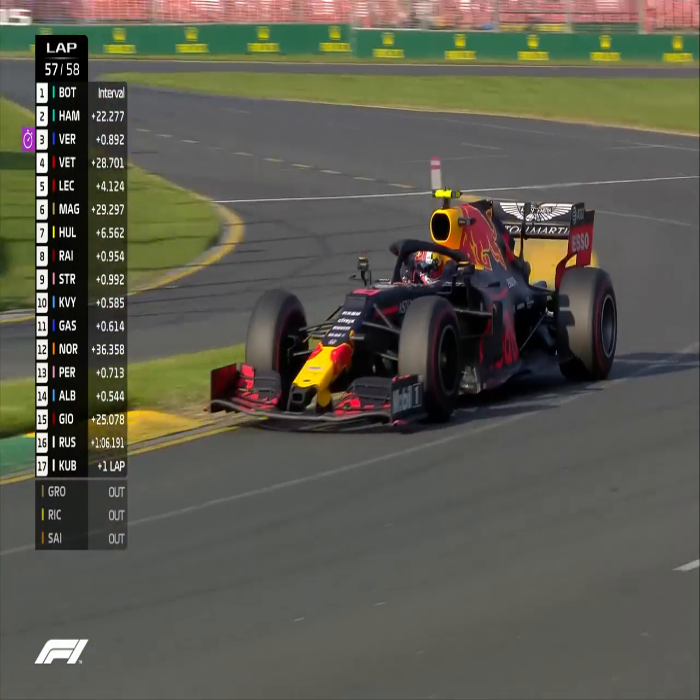f1_car: (205, 168, 645, 443)
